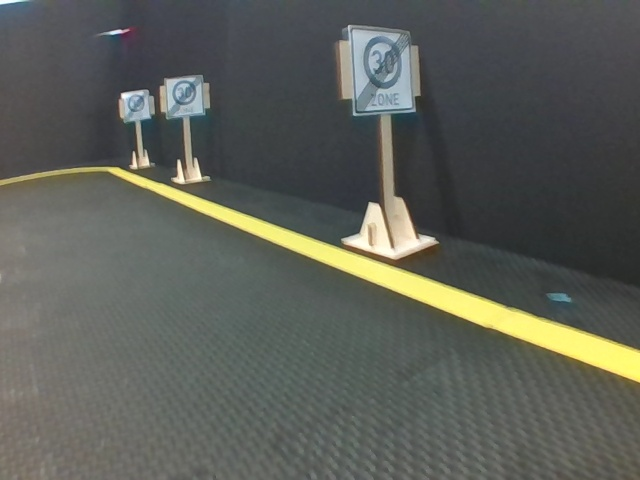no30: (350, 24, 414, 113), (166, 77, 204, 115), (122, 92, 150, 120)
